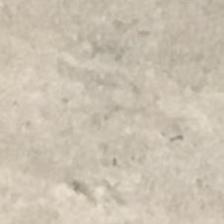Non_Crack: (14, 14, 219, 193)
